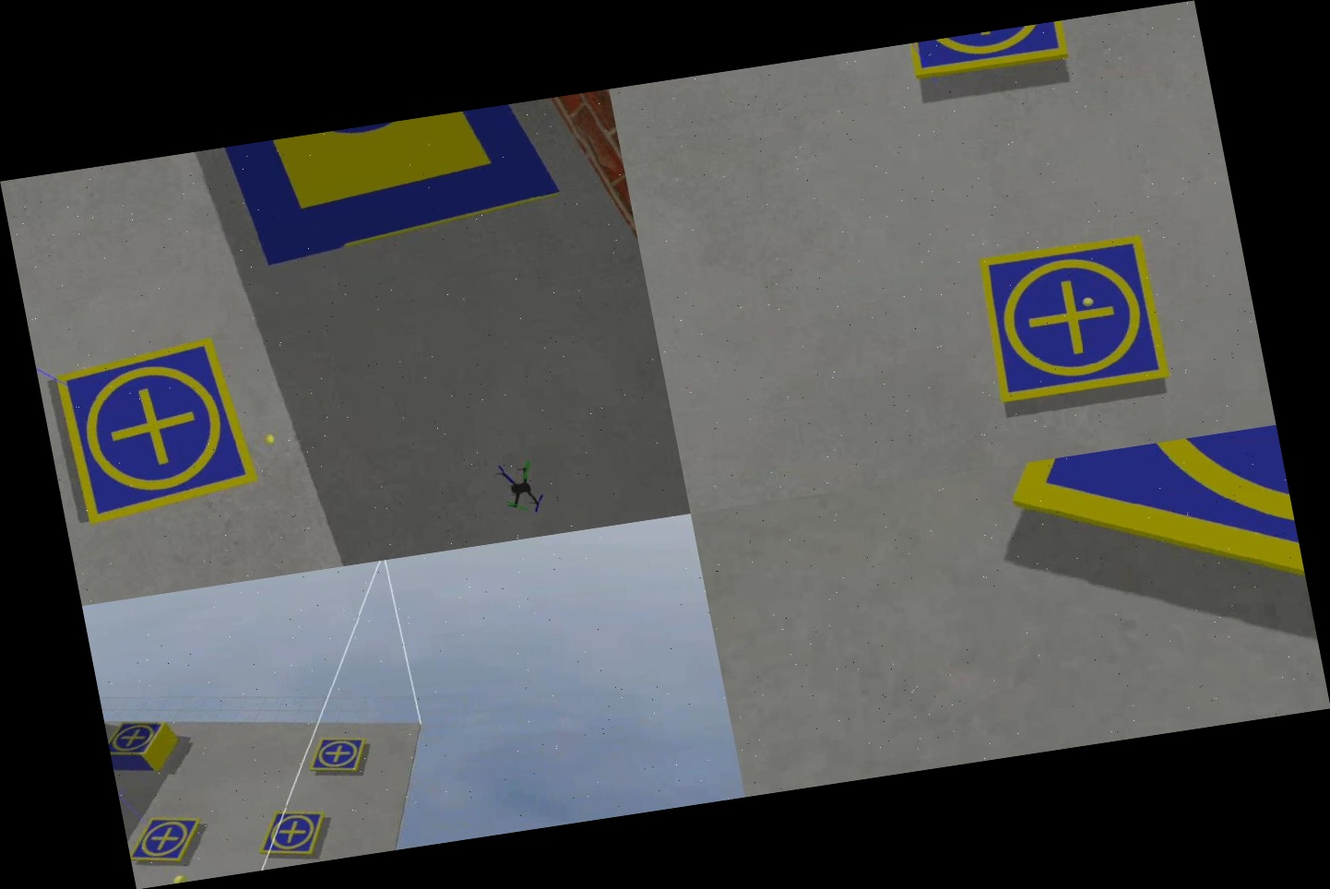large_base: (158, 94, 604, 306)
small_base: (985, 425, 1324, 719), (32, 317, 281, 546), (960, 219, 1191, 424), (901, 18, 1080, 94), (254, 802, 339, 868), (124, 809, 210, 869), (300, 728, 375, 781), (104, 712, 172, 762)
